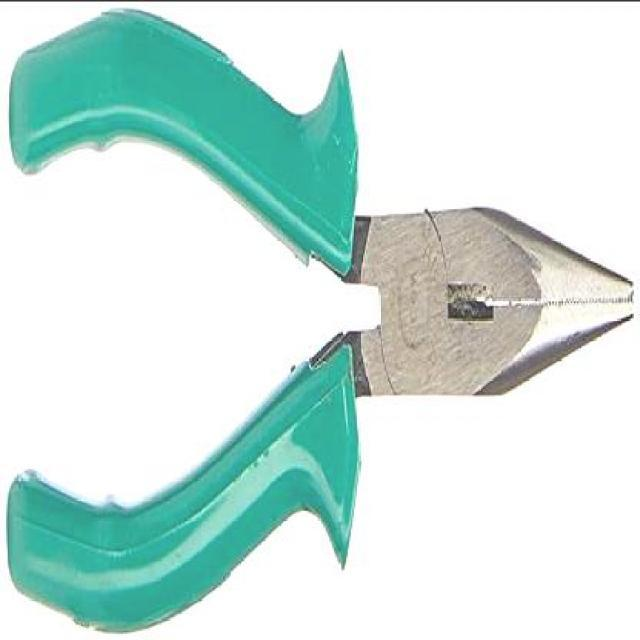pliers: (9, 12, 638, 625)
